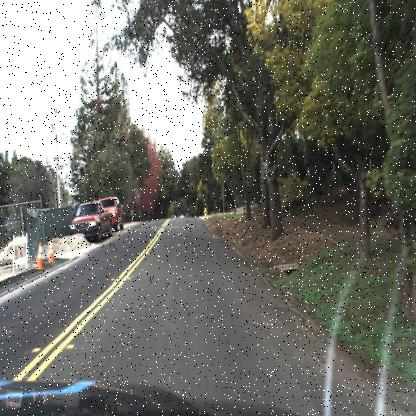car: (68, 199, 112, 242), (102, 195, 127, 232)
